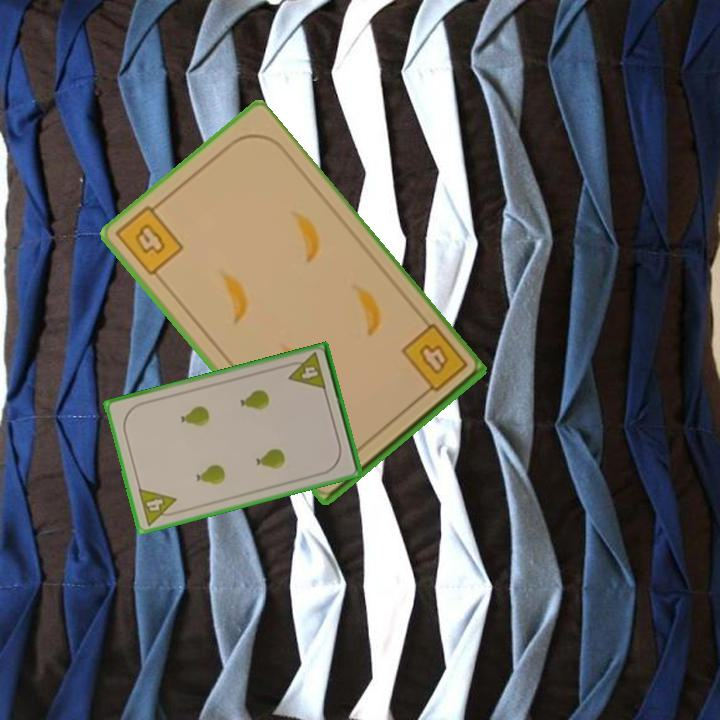4b: (112, 197, 187, 279), (397, 321, 471, 402)
4p: (282, 349, 329, 393), (135, 485, 182, 528)
